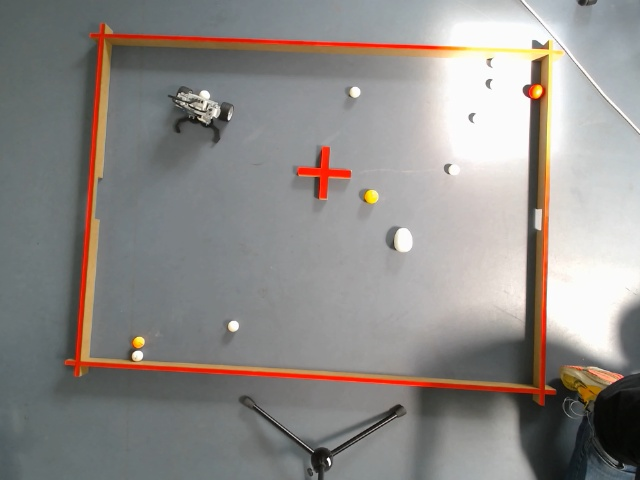big_goal: (88, 173, 108, 223)
cross: (295, 145, 353, 198)
egg: (392, 225, 413, 252)
orange: (132, 337, 145, 347)
robot: (167, 85, 233, 142)
small_goal: (530, 208, 547, 233)
wall: (64, 354, 559, 404), (85, 22, 569, 65), (67, 21, 120, 381), (535, 40, 561, 410)
white: (467, 112, 487, 125), (196, 88, 214, 100), (347, 83, 361, 97), (226, 319, 242, 331), (446, 163, 461, 175), (490, 56, 503, 68), (131, 350, 143, 362), (488, 80, 500, 90)
